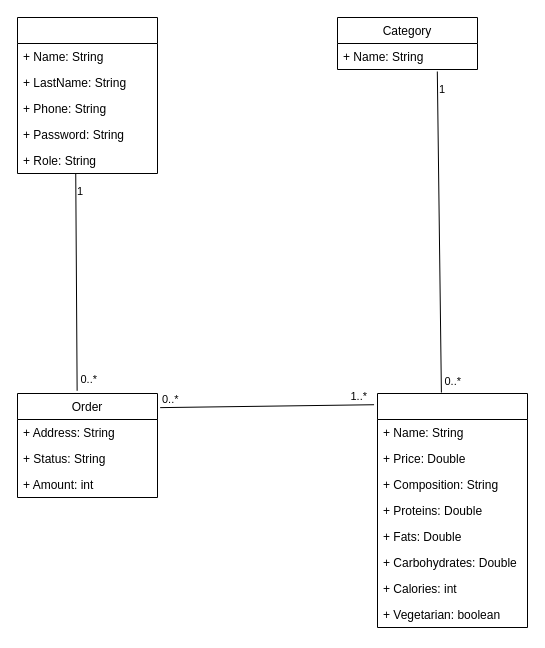
The diagram is 545 pixels wide and 648 high, and some of its shapes have lost their labels. Here are the shapes that lost their labels. From the top down, the box of each, then its label:
(16, 16, 158, 174): User
(376, 392, 528, 628): Product
